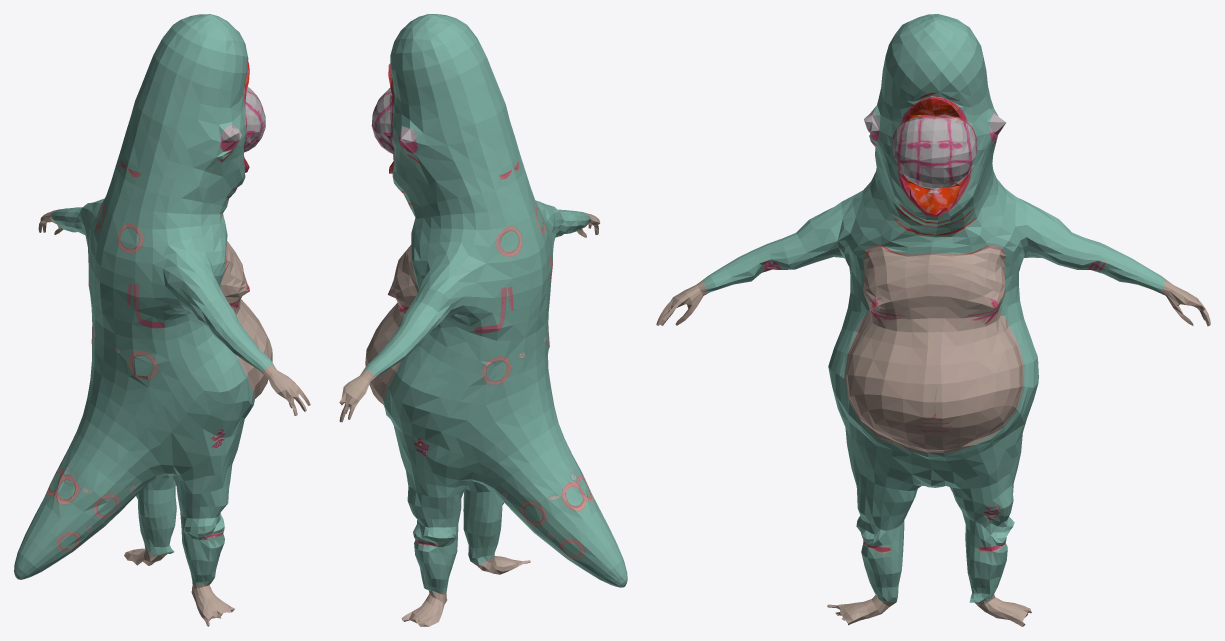
File: 神像原始.obj
3 views of the same model, side by side, from view 1: azimuth 30°, elevation 25°; view 2: azimuth 150°, elevation 25°; view 3: azimuth 270°, elevation 25° (orthographic). The views are drawn at different scales.
Visible parts, largest first — view 1: tripo_node_182e0033-84b9-4c63-9d71-f6edeaff04c4; view 2: tripo_node_182e0033-84b9-4c63-9d71-f6edeaff04c4; view 3: tripo_node_182e0033-84b9-4c63-9d71-f6edeaff04c4.
Boxes of the visible parts, x1,y1,x2,y2 form: tripo_node_182e0033-84b9-4c63-9d71-f6edeaff04c4: [14, 14, 310, 626]; tripo_node_182e0033-84b9-4c63-9d71-f6edeaff04c4: [339, 14, 627, 626]; tripo_node_182e0033-84b9-4c63-9d71-f6edeaff04c4: [656, 14, 1210, 626].
Size of the model in its own units: 0.4518 by 0.9929 by 0.8107.
1 material, 1 textured.
